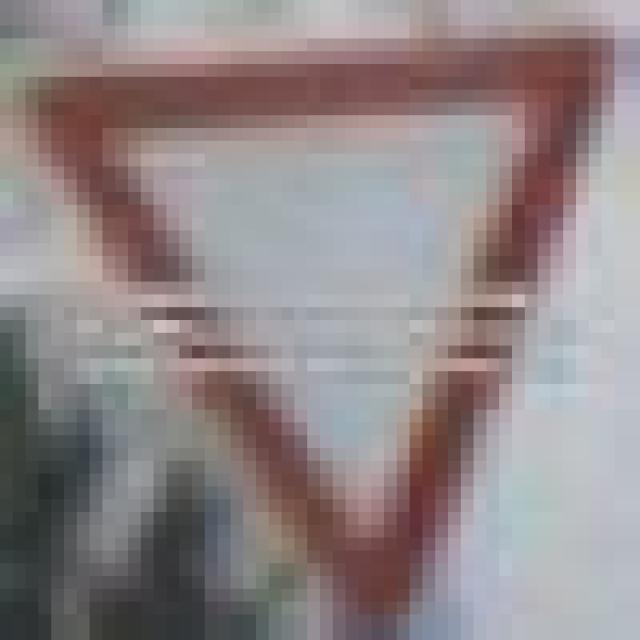gap_in_median: (0, 26, 627, 588)
